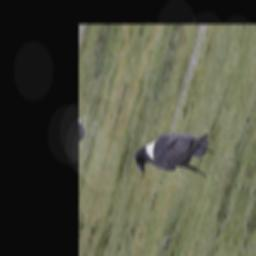Crow: (131, 110, 218, 194)
